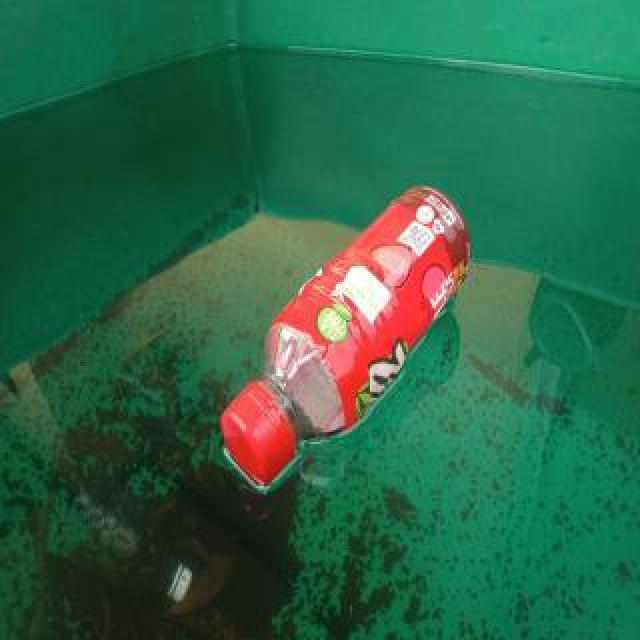bottle: (218, 183, 472, 489)
